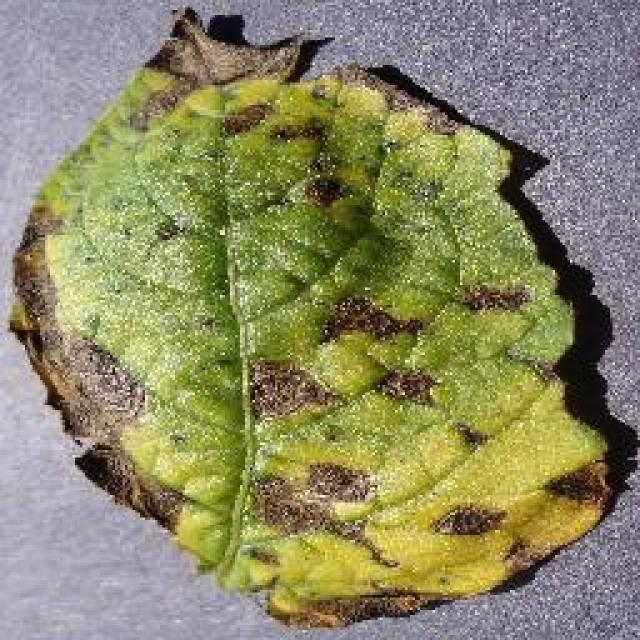early_blight: (5, 2, 623, 632)
